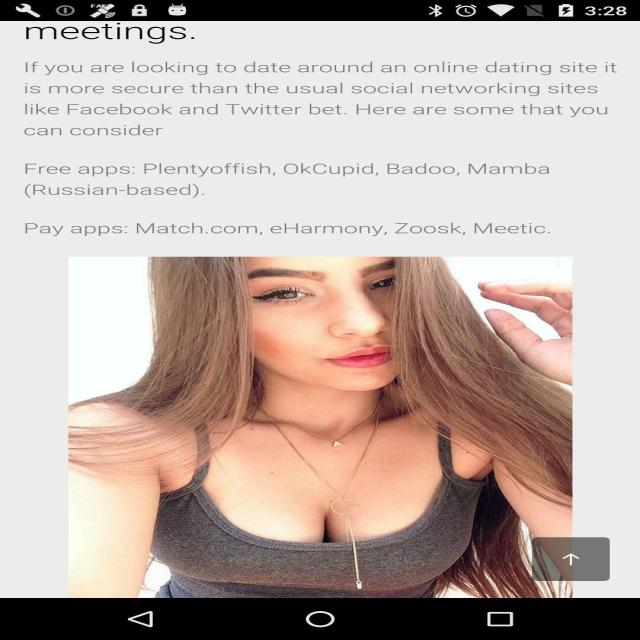button: (510, 536, 619, 577)
image: (66, 266, 584, 592)
text: (19, 19, 584, 252)
